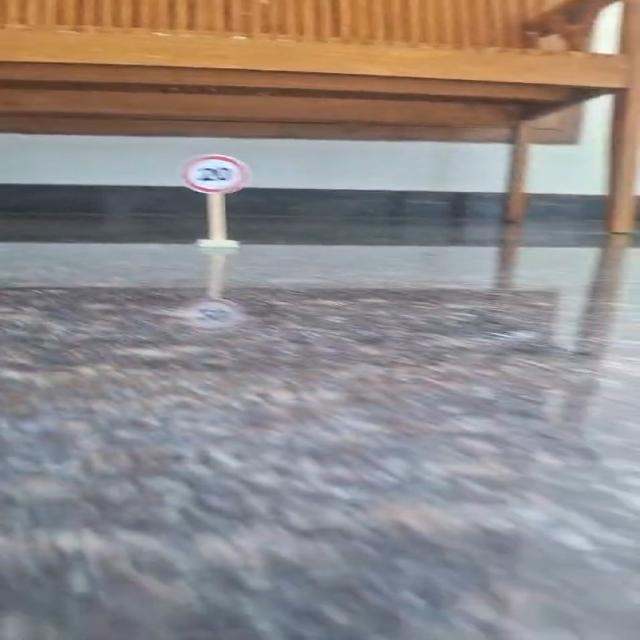Speed20: (173, 150, 260, 197)
